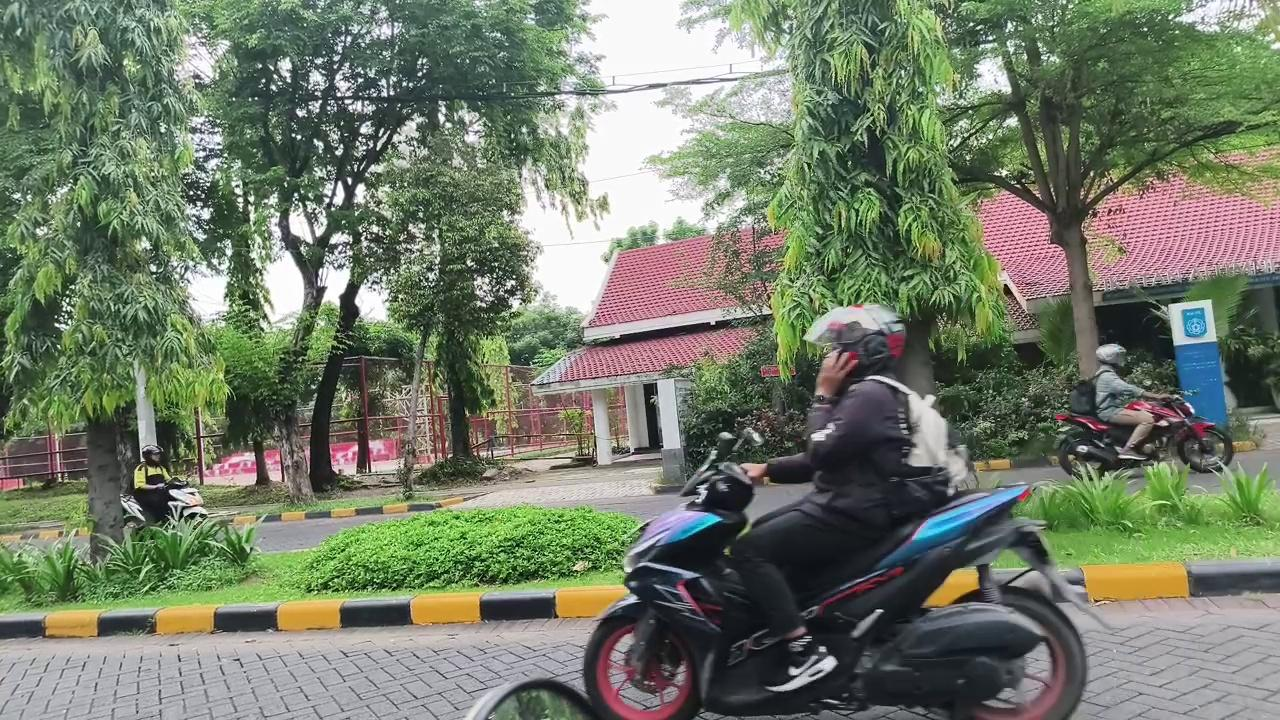Helmet: (729, 305, 947, 691), (1094, 343, 1170, 460), (133, 444, 171, 521)
Motor: (584, 431, 1091, 719), (1055, 397, 1233, 474), (120, 480, 208, 528)
